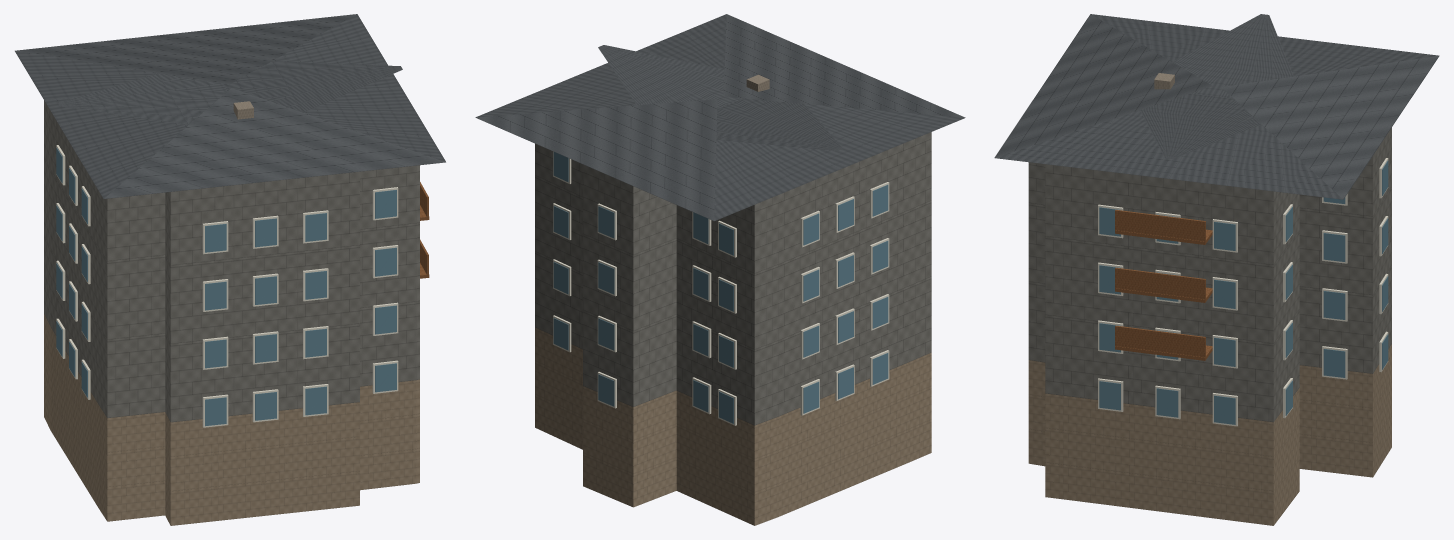
Rendered from core_0102.gltf.
3 views of the same model, side by side, from view 1: azimuth 30°, elevation 25°; view 2: azimuth 150°, elevation 25°; view 3: azimuth 270°, elevation 25° (orthographic). The views are drawn at different scales.
Parts seen in each view (by area): view 1: core_0102; view 2: core_0102; view 3: core_0102.
Part boxes in pixels (<box>): core_0102: <box>15,14,445,525</box>; core_0102: <box>475,14,965,525</box>; core_0102: <box>994,14,1439,525</box>.
Size of the model in its own units: 19.6 by 17.85 by 19.87.
Materials: 7 (7 with a texture image).
